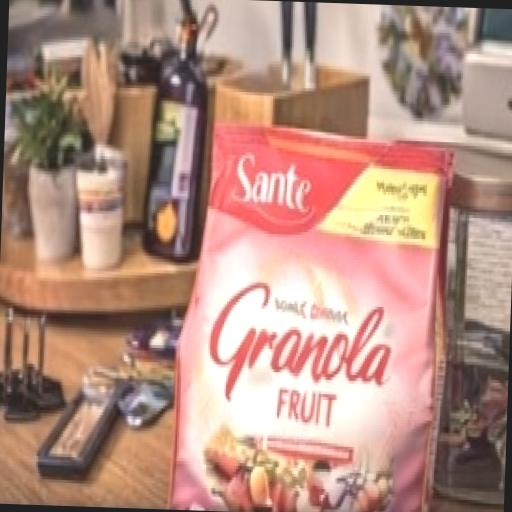granola: (156, 97, 475, 512)
